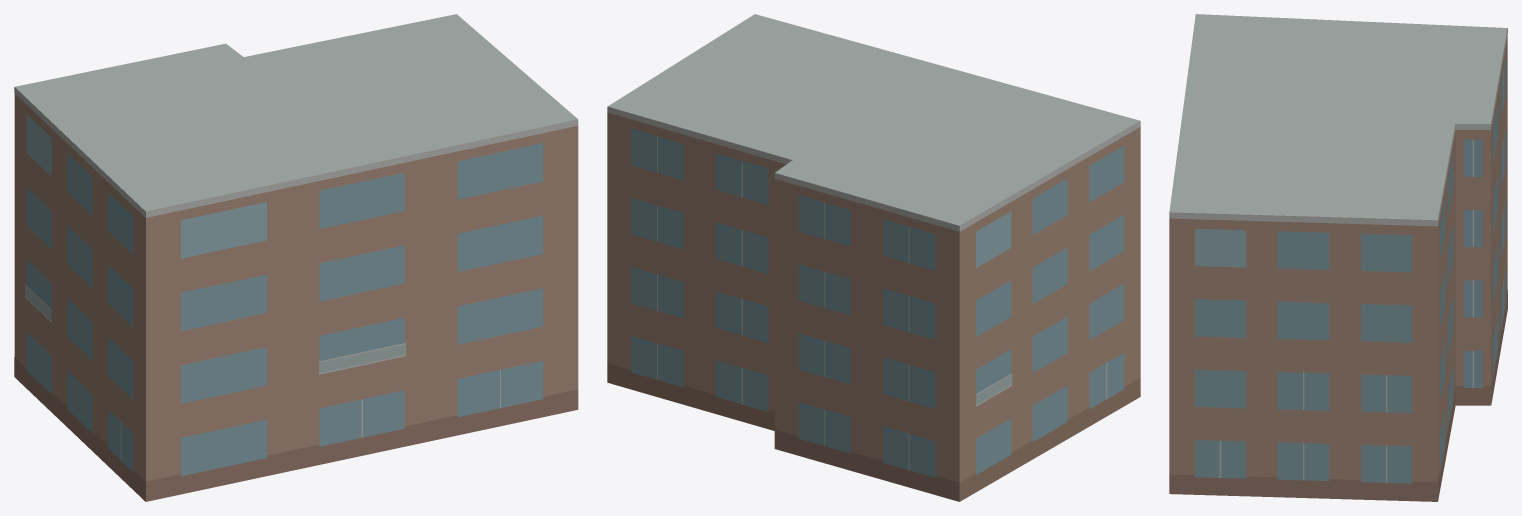
File: survey-upis-32987652.glb
3 views of the same model, side by side, from view 1: azimuth 30°, elevation 25°; view 2: azimuth 150°, elevation 25°; view 3: azimuth 270°, elevation 25° (orthographic). The views are drawn at different scales.
Visible parts, largest first — view 1: survey-upis-32987652.tmp; view 2: survey-upis-32987652.tmp; view 3: survey-upis-32987652.tmp.
Boxes of the visible parts, left/top/right/bottom form: survey-upis-32987652.tmp: left=14, top=14, right=578, bottom=501; survey-upis-32987652.tmp: left=607, top=14, right=1140, bottom=501; survey-upis-32987652.tmp: left=1169, top=14, right=1507, bottom=501.
Bounding box in the file's own units: 17.6 × 11.2 × 12.21.
